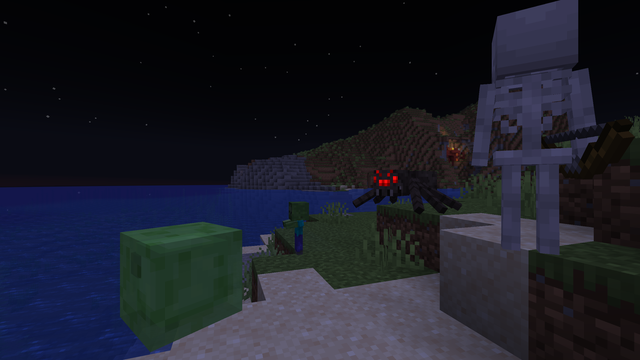araignees: (357, 164, 455, 215)
slimes: (112, 219, 227, 349)
squelettes: (472, 2, 593, 264)
zombies: (290, 208, 306, 255)
